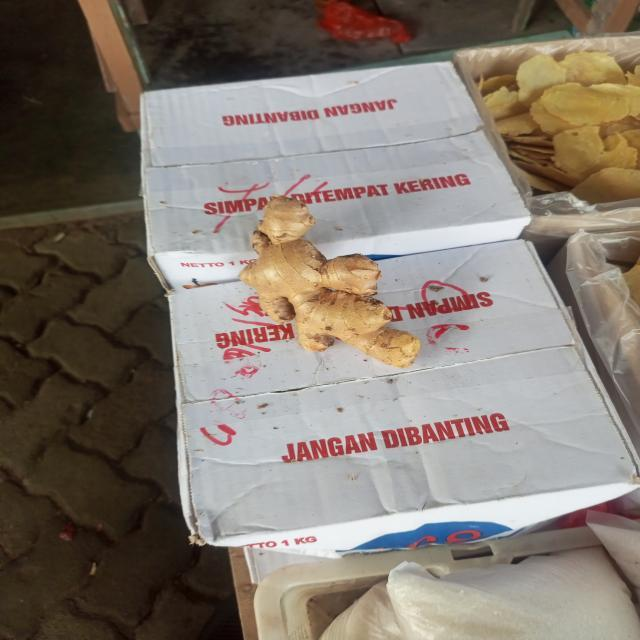ginger: (246, 197, 417, 363)
